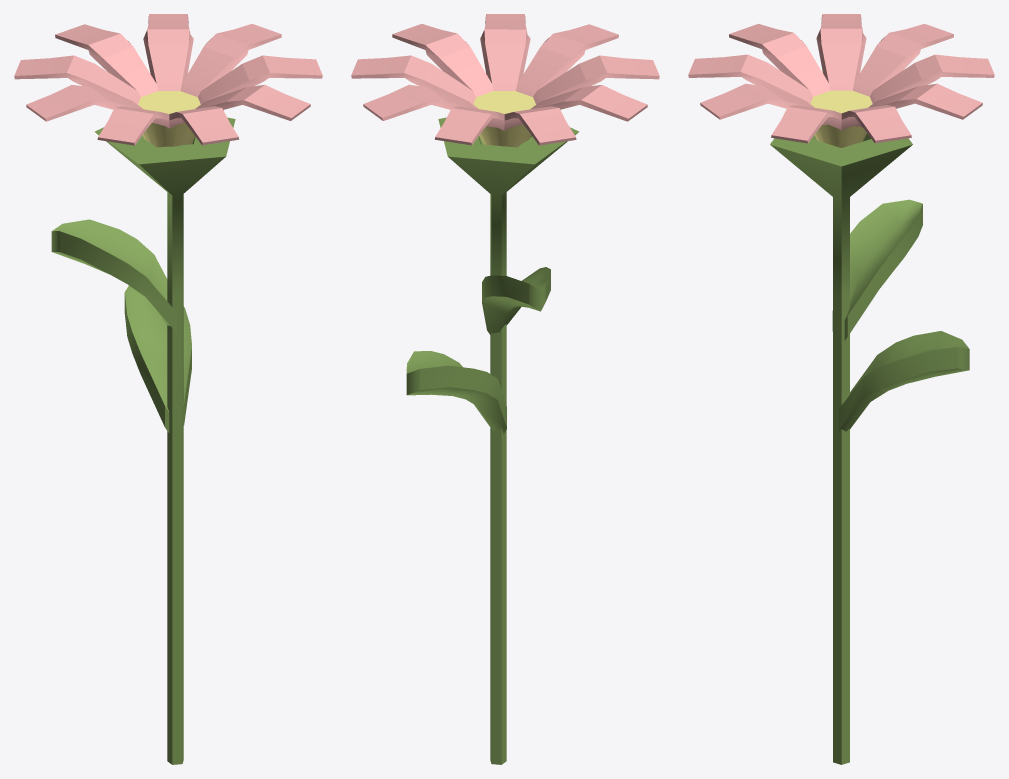
The model's file is Cosmos.glb.
3 renders of one model, left to right at view 1: azimuth 30°, elevation 25°; view 2: azimuth 150°, elevation 25°; view 3: azimuth 270°, elevation 25°, orthographic.
Visible parts, largest first — view 1: pPipe21, pPipe20, pCube13, pCube12, pCylinder4; view 2: pPipe21, pPipe20, pCube12, pCube13, pCylinder4; view 3: pPipe21, pPipe20, pCube13, pCube12, pCylinder4.
Part boxes in pixels (x1,y1,x2,y2): pPipe21: (14, 14, 322, 145); pPipe20: (94, 117, 235, 764); pCube13: (51, 219, 177, 335); pCube12: (124, 285, 191, 432); pCylinder4: (138, 91, 200, 147); pPipe21: (351, 14, 659, 145); pPipe20: (438, 117, 579, 764); pCube12: (406, 351, 506, 433); pCube13: (482, 267, 550, 334); pCylinder4: (473, 91, 535, 147); pPipe21: (688, 14, 994, 143); pPipe20: (770, 133, 912, 764); pCube13: (832, 199, 922, 340); pCube12: (838, 331, 969, 431); pCylinder4: (810, 90, 872, 147).
Size of the model in its own units: 0.9478 by 2.38 by 0.9624.
